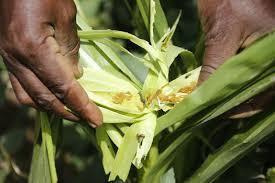fallarmy_worm: (106, 89, 131, 105)
